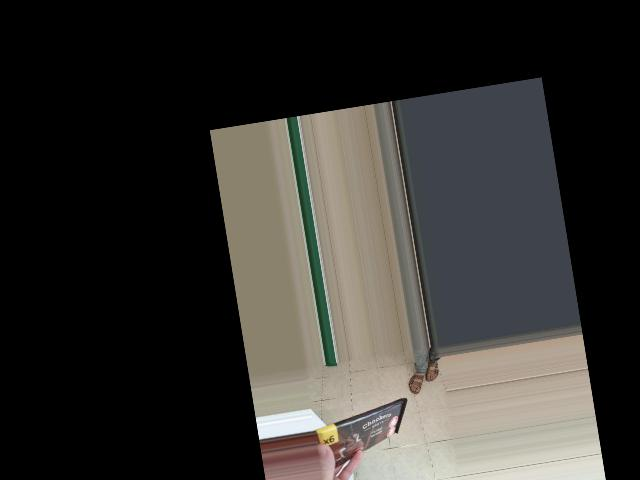chocolate: (348, 385, 443, 480)
